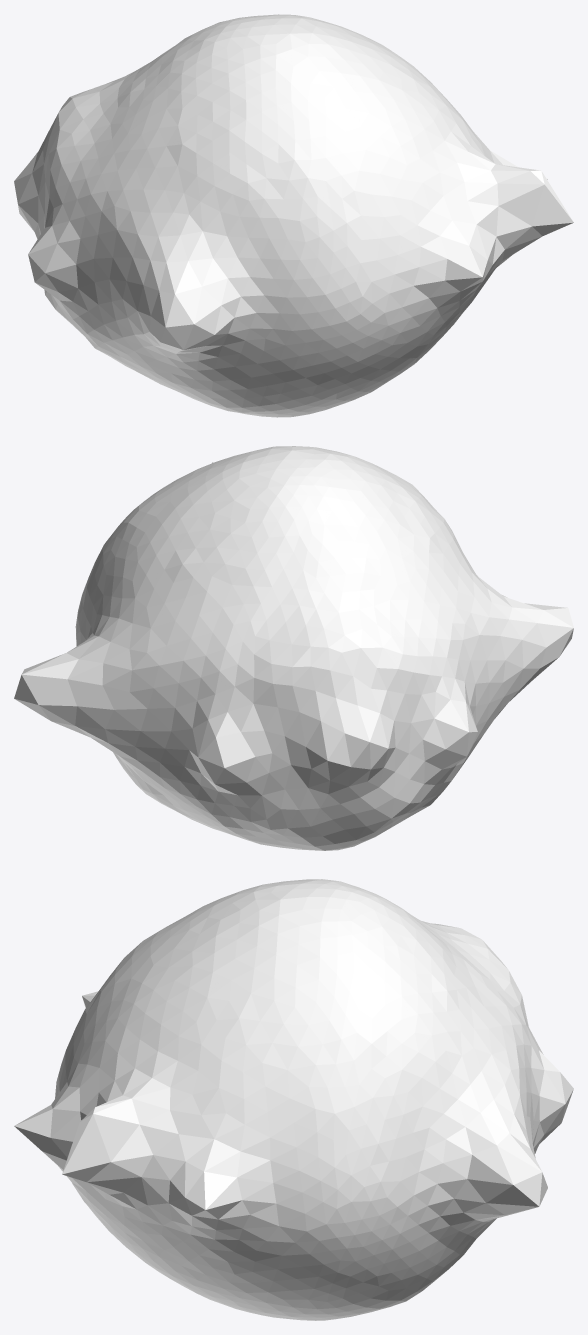
File: plane_rotZ45[0.3,0.0,0.3]s1[-1.7,0.0,-1.7]_00030.obj
3 renders of one model, top to bottom at view 1: azimuth 30°, elevation 25°; view 2: azimuth 150°, elevation 25°; view 3: azimuth 270°, elevation 25°, orthographic. The views are drawn at different scales.
Size of the model in its own units: 1.05 by 0.8431 by 1.05.
Materials: 1 (1 with a texture image).
